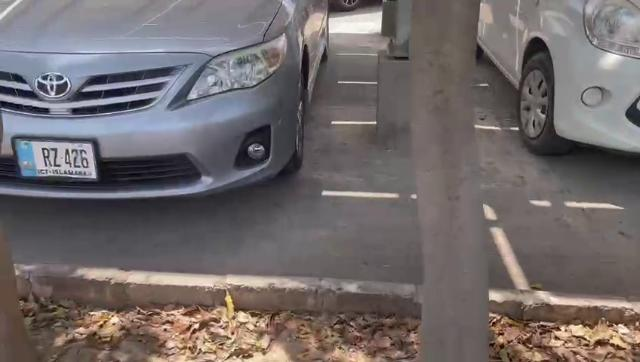plate: (11, 136, 98, 174)
